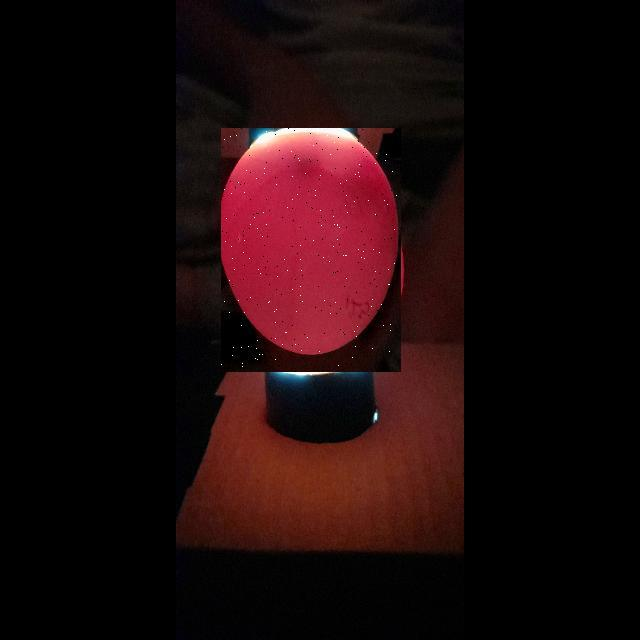Fertile: (221, 128, 401, 372)
